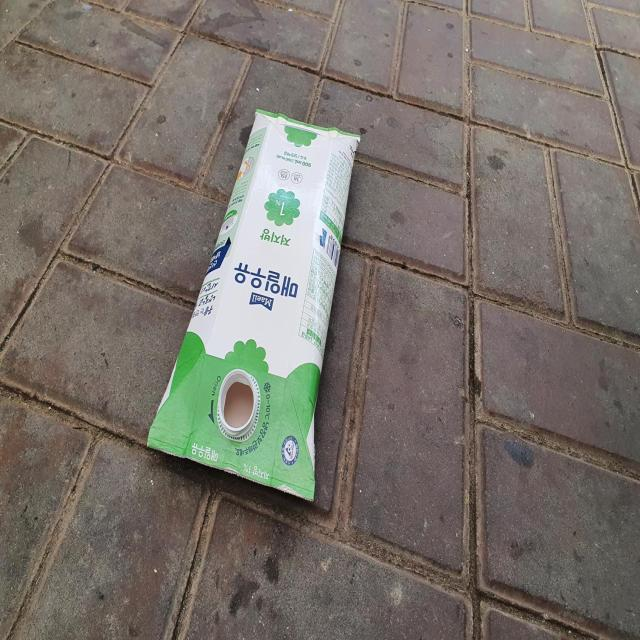paperpack: (148, 108, 360, 500)
